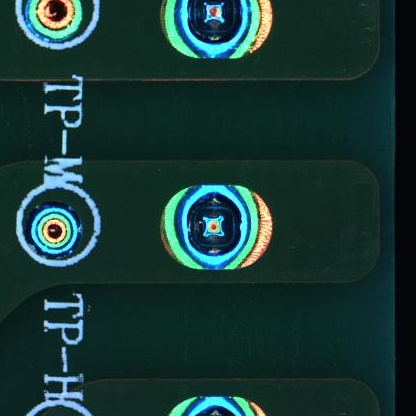spot: (159, 184, 274, 271), (160, 1, 274, 58), (25, 202, 82, 260), (24, 1, 85, 42), (164, 394, 268, 416)
